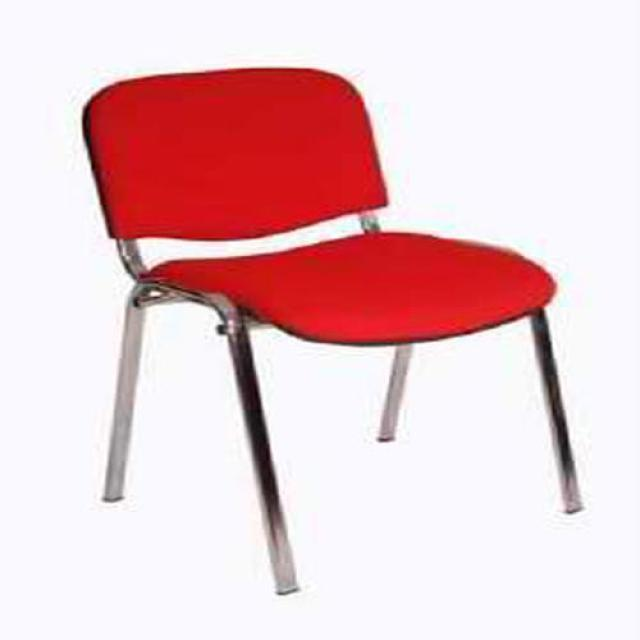chair: (81, 68, 580, 598)
